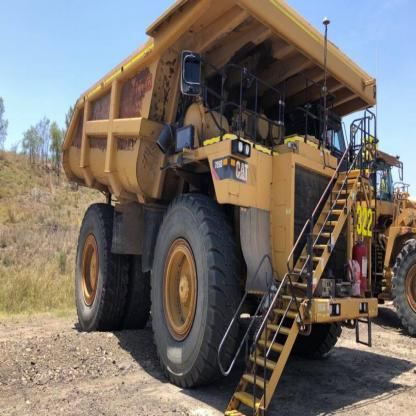dump_truck: (35, 2, 389, 401)
